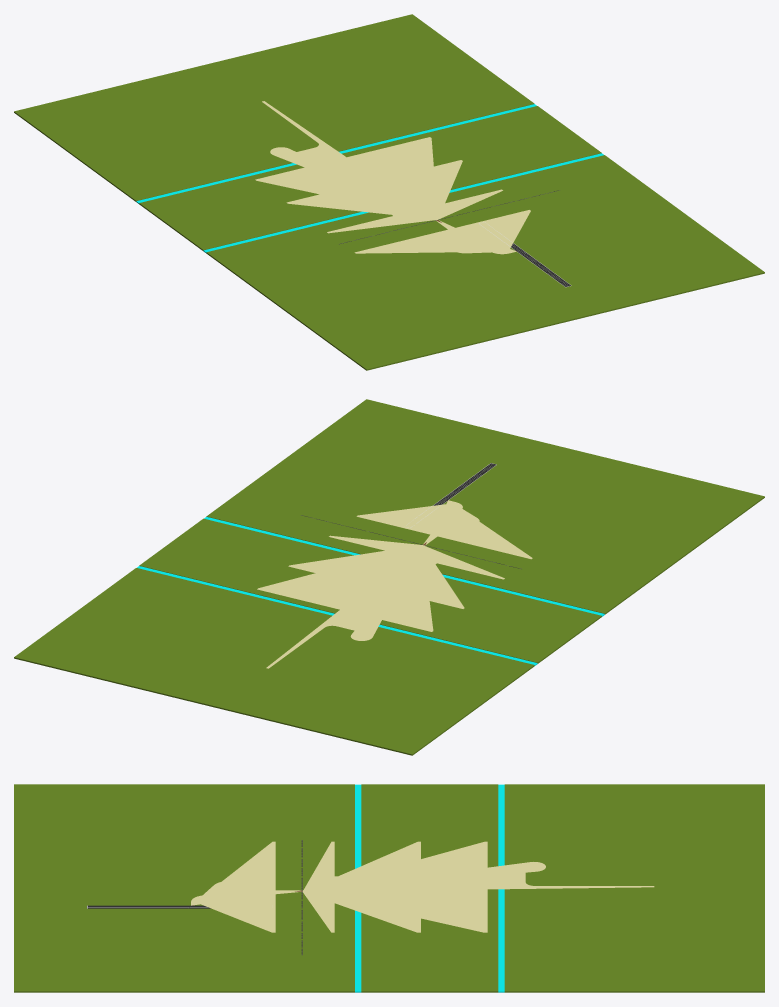
The model's file is 30.06_yol_2.fbx.
3 renders of one model, top to bottom at view 1: azimuth 30°, elevation 25°; view 2: azimuth 150°, elevation 25°; view 3: azimuth 270°, elevation 25°, orthographic. The views are drawn at different scales.
Visible parts, largest first — view 1: 30.06_yol; view 2: 30.06_yol; view 3: 30.06_yol.
Boxes of the visible parts, bbox=[...] form: 30.06_yol: bbox=[14, 14, 764, 370]; 30.06_yol: bbox=[14, 399, 764, 755]; 30.06_yol: bbox=[14, 784, 764, 992].
Size of the model in its own units: 11948 by 39.67 by 18312.
Materials: 9 (9 with a texture image).
